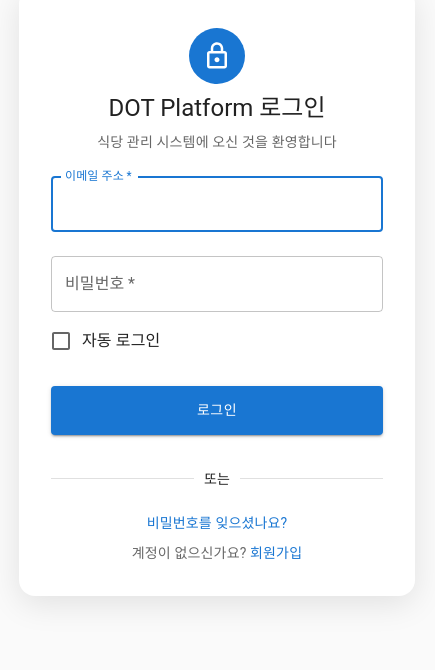
Login Component › 폼 유효성 검사 › 짧은 비밀번호 입력 시 에러 메시지가 표시되어야 함
Type "123" into the password field labelled "비밀번호 *".
click(217, 284); type("123")  # box [51,256,383,312]
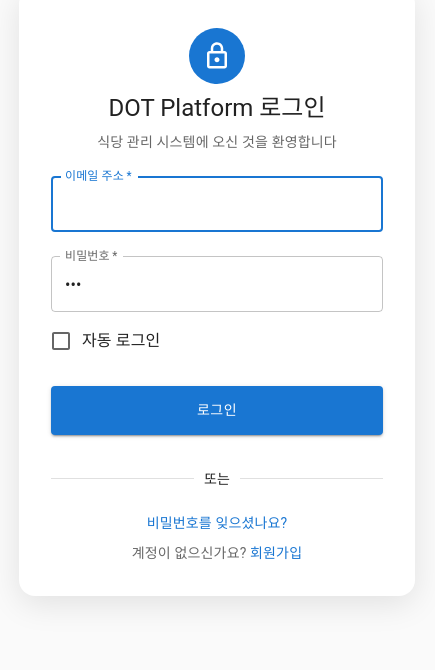
Click the button "로그인".
click(217, 411)  # box [51,386,383,435]
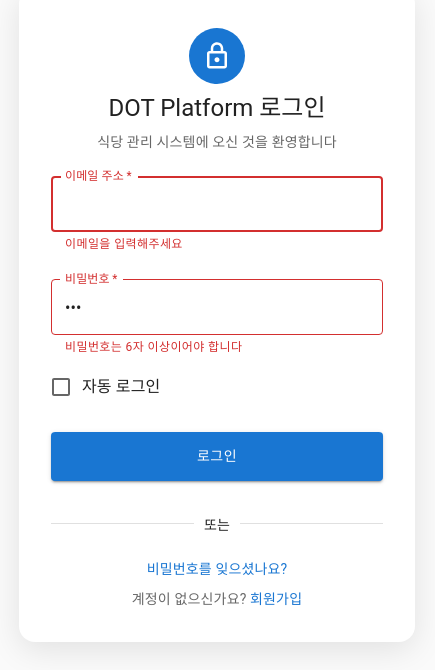
Check: the text "비밀번호는 6자 이상이어야 합니다" is shown, box [65,340,242,354]
